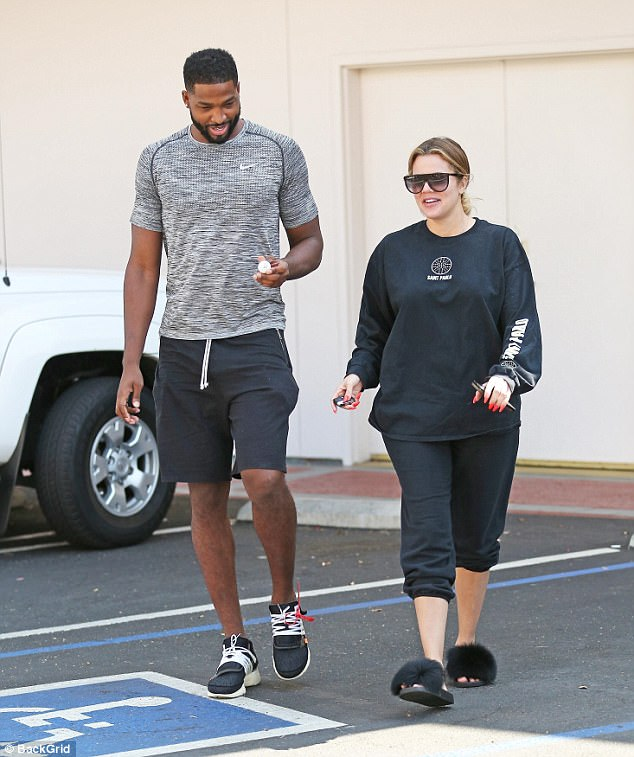Person: (114, 50, 321, 675), (351, 141, 545, 697)
